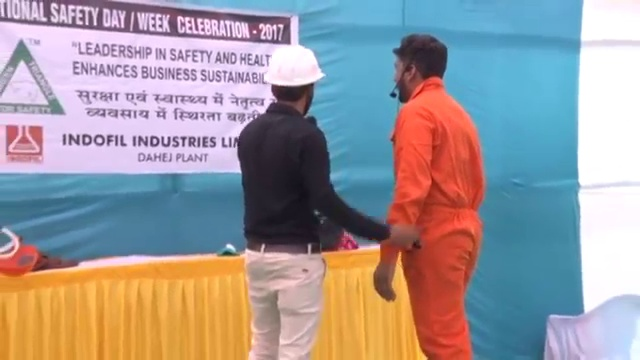helmet: (264, 45, 329, 88)
helmet_off: (386, 30, 449, 105)
helmet_on: (261, 45, 328, 117)
person: (231, 44, 424, 360), (361, 30, 492, 360)
